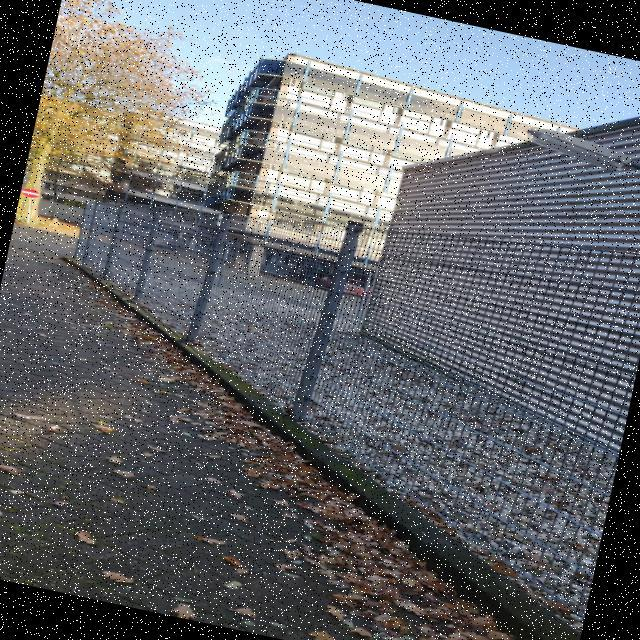fence line: (259, 168, 639, 586), (15, 164, 416, 400)
